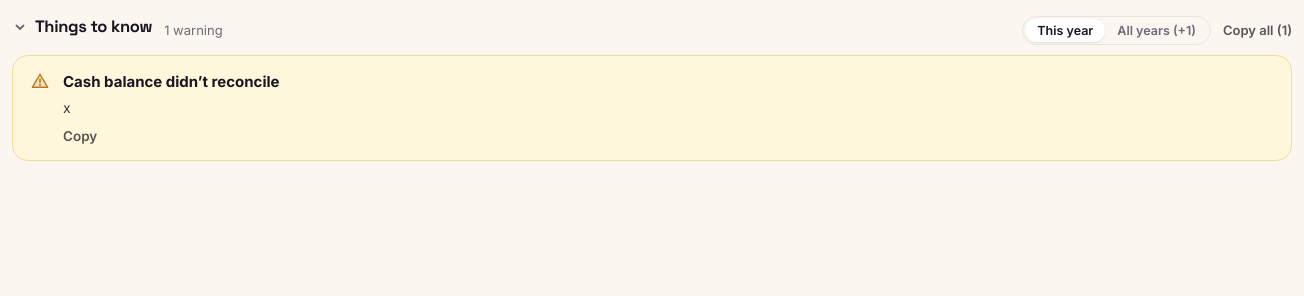
Test: notices from other tax years are hidden until "All years" is chosen
expect the text "META sale — tax withheld" is not shown: met
expect the text "Cash balance didn’t reconcile" is shown: met, box [63, 70, 280, 93]
Click the button "All years (+1)": (1157, 30) [1105, 19, 1208, 42]
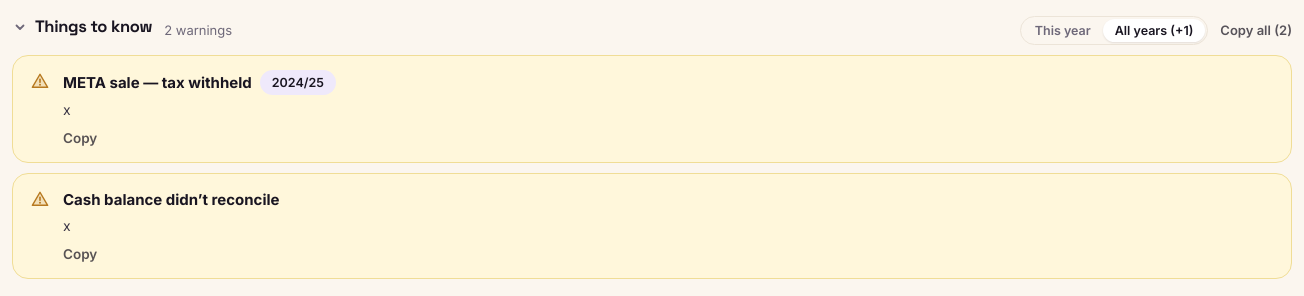
expect the text "META sale — tax withheld" is shown: met, box [63, 71, 252, 94]
expect the text "2024/25" is shown: met, box [260, 70, 336, 95]
expect the text "2 warnings" is shown: met, box [164, 20, 232, 40]
Click the button "This year": (1063, 30) [1023, 19, 1103, 42]
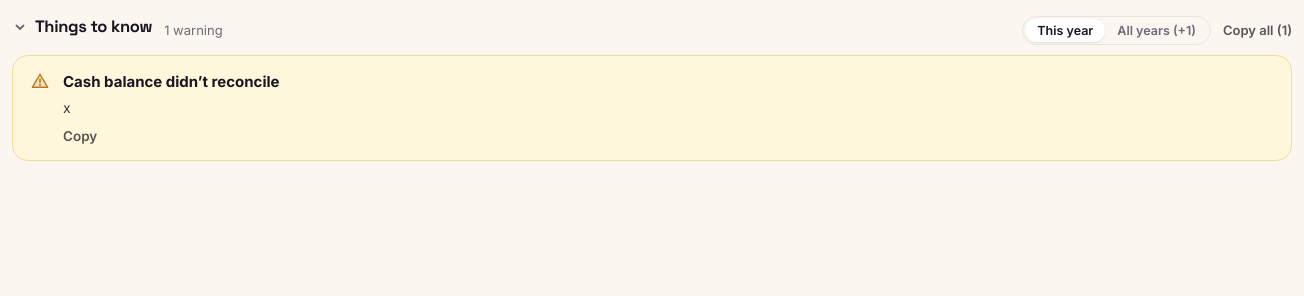
expect the text "META sale — tax withheld" is gone: met
